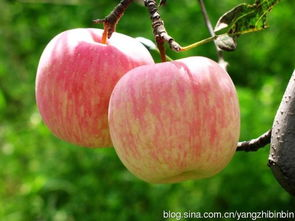apple: (106, 55, 240, 186)
obscured(2)_apple: (31, 26, 163, 150)
